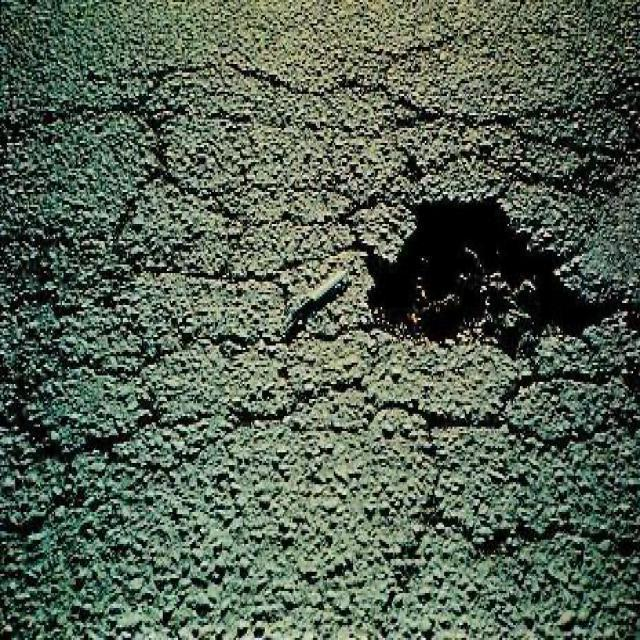pothole: (361, 186, 622, 370)
